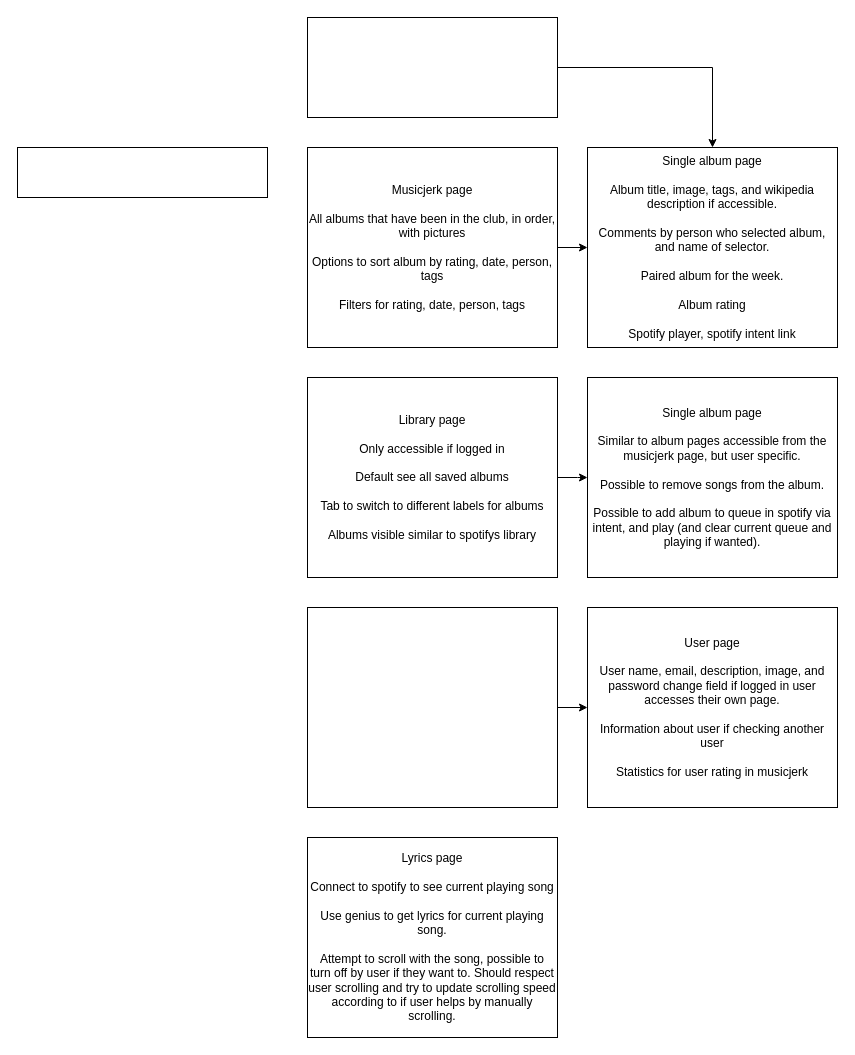
The diagram is 855 pixels wide and 1055 high, and some of its shapes have lost their labels. The shapes that lost their labels are listed below. From the top down, each one's centre as x and y in pixels, then its label:
At point 432,67: "Homepage This weeks albums Some stats".
At point 142,172: "Register/Login/Logout".
At point 432,707: "Users page List of all users".
